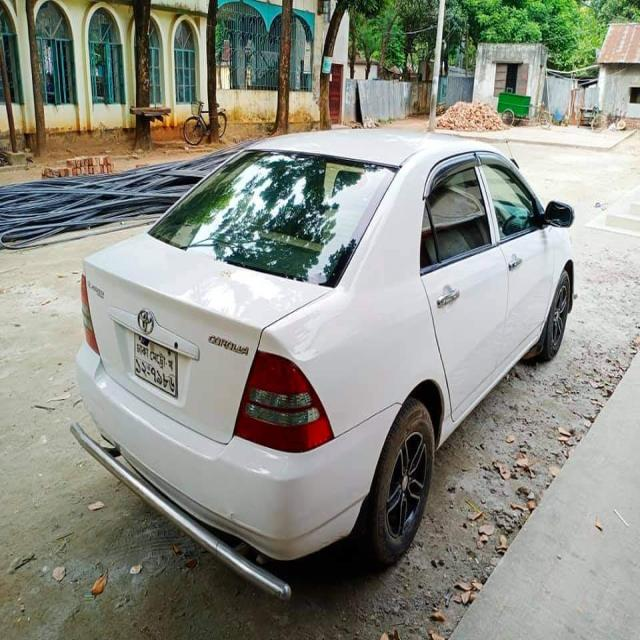white: (72, 123, 594, 524)
